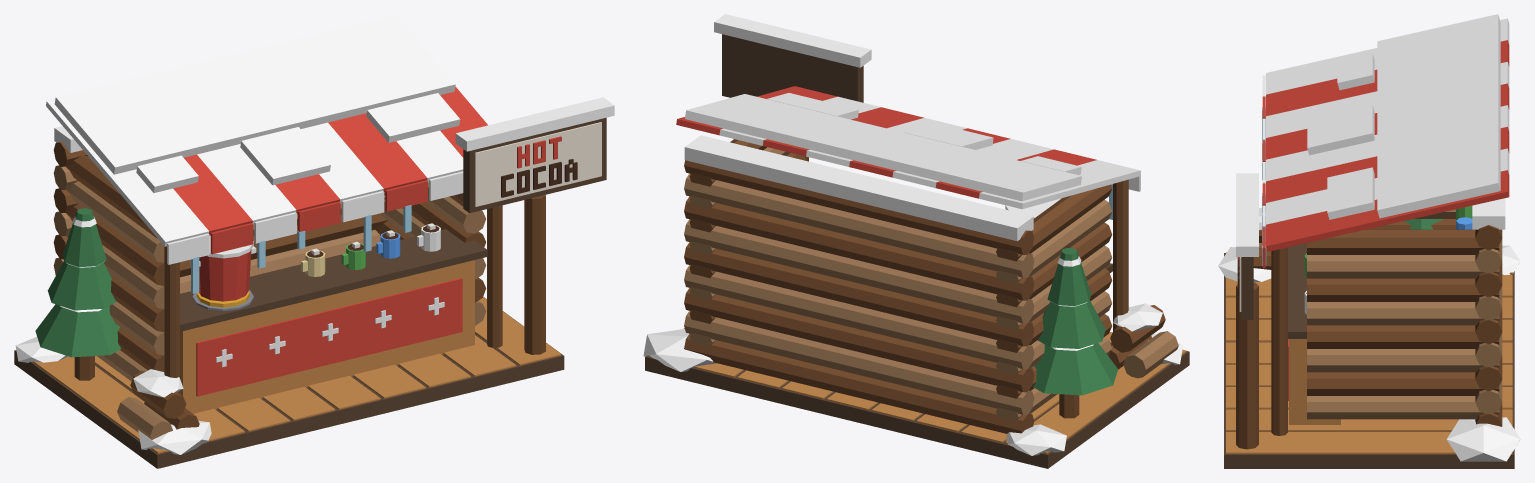
The model's file is CatCafe_Camp_Snowy_CocoaStand.glb.
The picture shows the model from 3 angles, left to right: view 1: azimuth 30°, elevation 25°; view 2: azimuth 150°, elevation 25°; view 3: azimuth 270°, elevation 25°; orthographic projection. The views are drawn at different scales.
Parts seen in each view (by area): view 1: CatCafe_Camp_Snowy_CocoaStand; view 2: CatCafe_Camp_Snowy_CocoaStand; view 3: CatCafe_Camp_Snowy_CocoaStand.
Boxes of the visible parts, bbox=[...] form: CatCafe_Camp_Snowy_CocoaStand: bbox=[14, 14, 614, 468]; CatCafe_Camp_Snowy_CocoaStand: bbox=[643, 14, 1189, 468]; CatCafe_Camp_Snowy_CocoaStand: bbox=[1218, 14, 1520, 468].
Size of the model in its own units: 10.92 by 5.73 by 5.83.
Materials: 1 (1 with a texture image).
